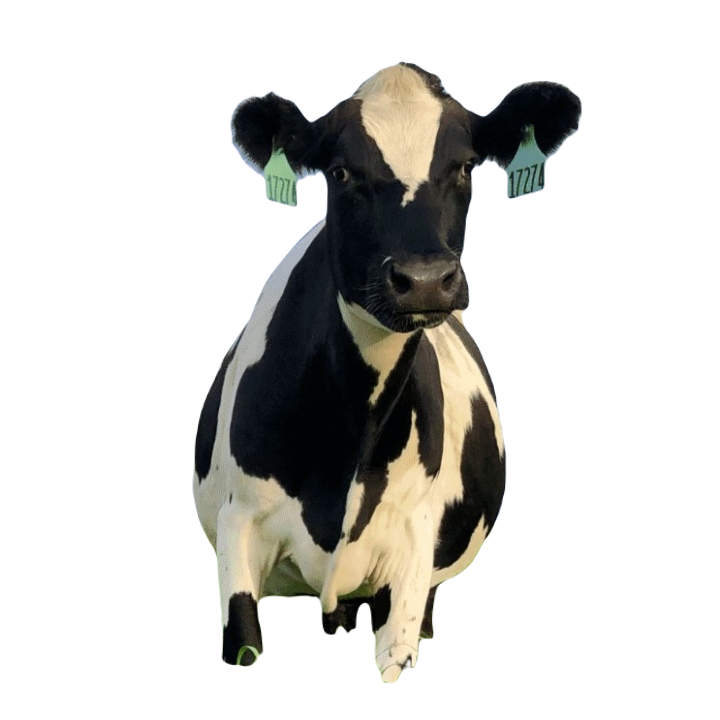Cow: (191, 61, 582, 675)
